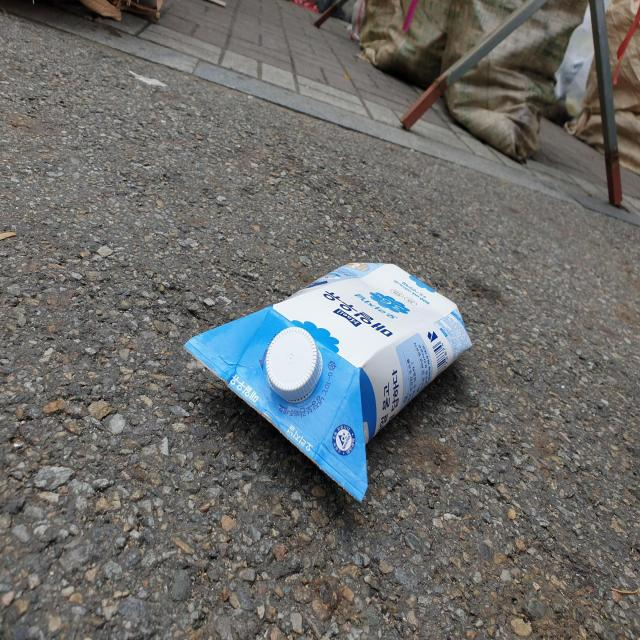paperpack: (184, 263, 472, 501)
